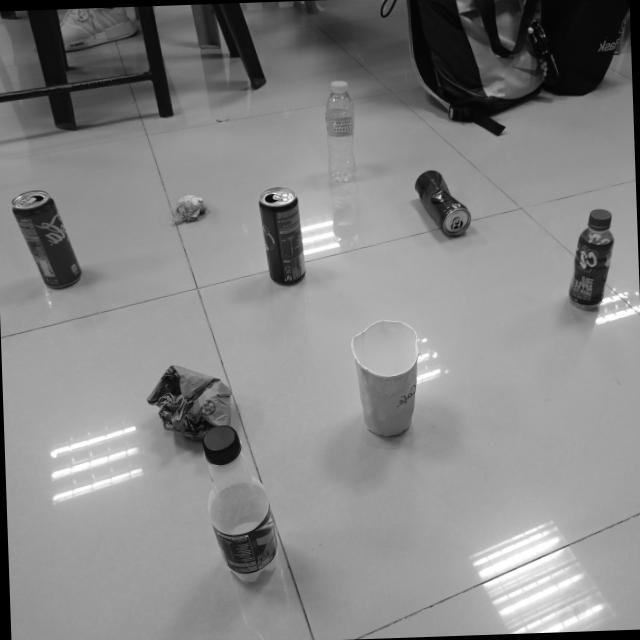recyclable waste: (198, 417, 286, 590), (346, 312, 426, 443), (139, 355, 238, 452), (5, 182, 90, 294), (560, 204, 620, 315), (255, 177, 312, 291), (408, 164, 475, 241), (320, 74, 360, 188), (166, 187, 211, 231)
